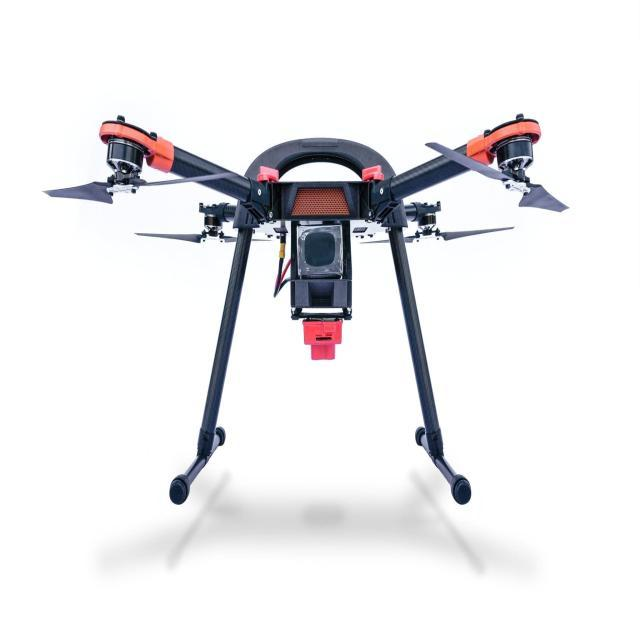drones: (47, 78, 587, 540)
